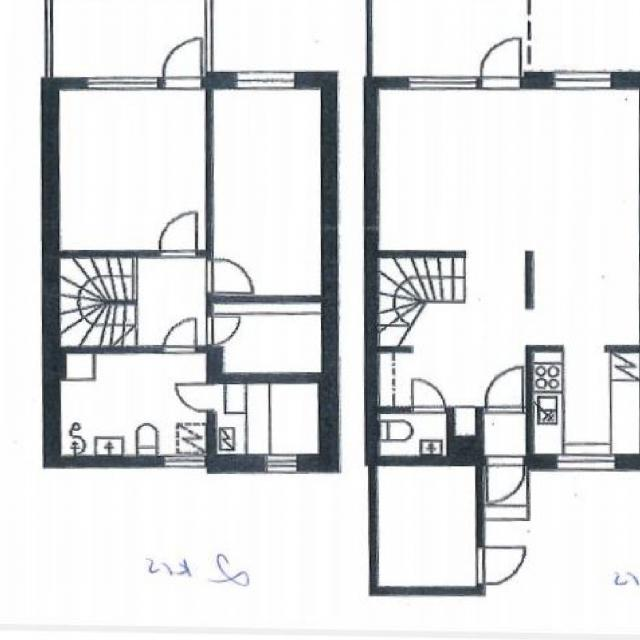door: (480, 36, 521, 90), (164, 40, 202, 89), (487, 454, 524, 502), (486, 370, 524, 413), (477, 548, 522, 584), (160, 214, 196, 256), (207, 260, 249, 293), (164, 315, 196, 353), (414, 376, 444, 413), (179, 384, 217, 413), (207, 317, 243, 345)
